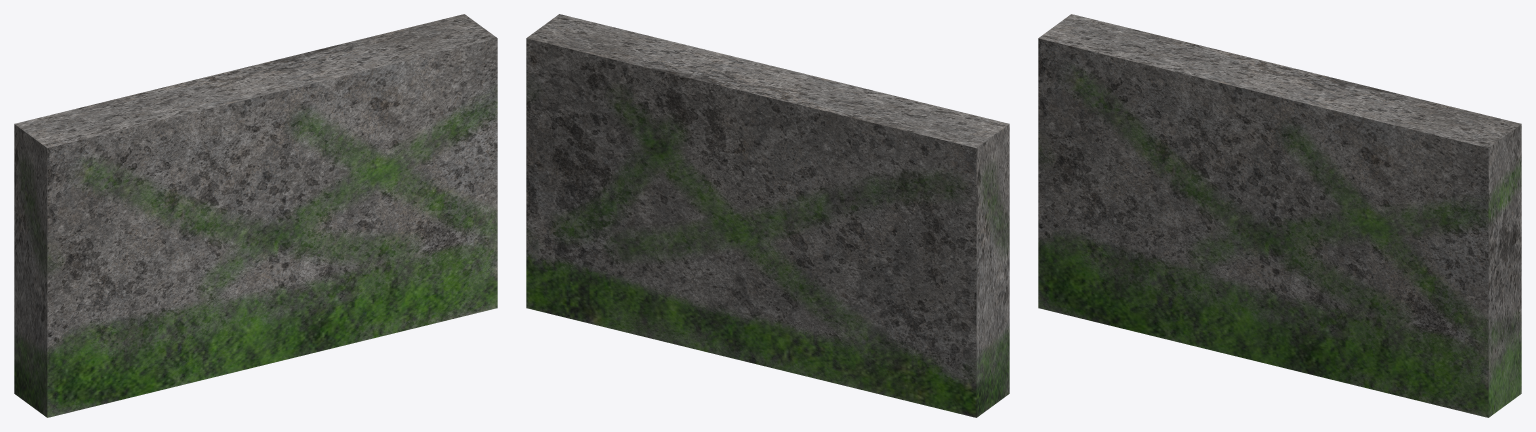
File: ruin_wall.glb
3 renders of one model, left to right at view 1: azimuth 30°, elevation 25°; view 2: azimuth 150°, elevation 25°; view 3: azimuth 330°, elevation 25°, orthographic.
Parts seen in each view (by area): view 1: Box001; view 2: Box001; view 3: Box001.
Boxes of the visible parts, <box> form: Box001: <box>14,14,497,417</box>; Box001: <box>526,14,1009,417</box>; Box001: <box>1038,14,1521,417</box>.
Size of the model in its own units: 1.83 by 1.05 by 0.2341.
Materials: 1 (1 with a texture image).
